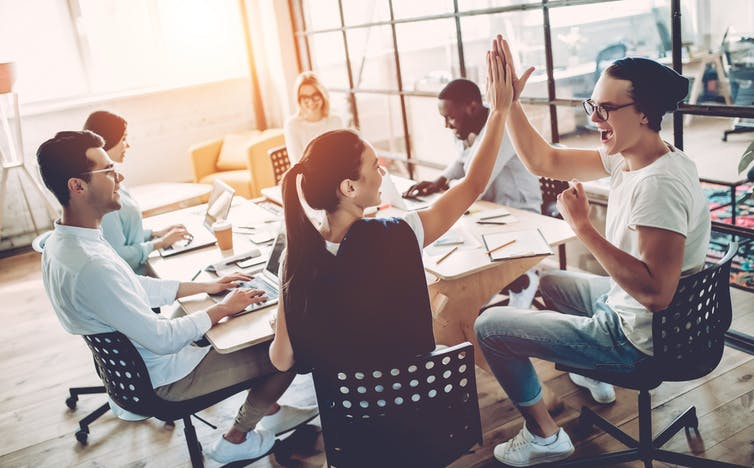without_mask: (578, 70, 637, 161), (336, 142, 390, 215), (84, 154, 126, 214), (437, 95, 476, 145), (108, 127, 134, 164), (302, 81, 325, 118)
